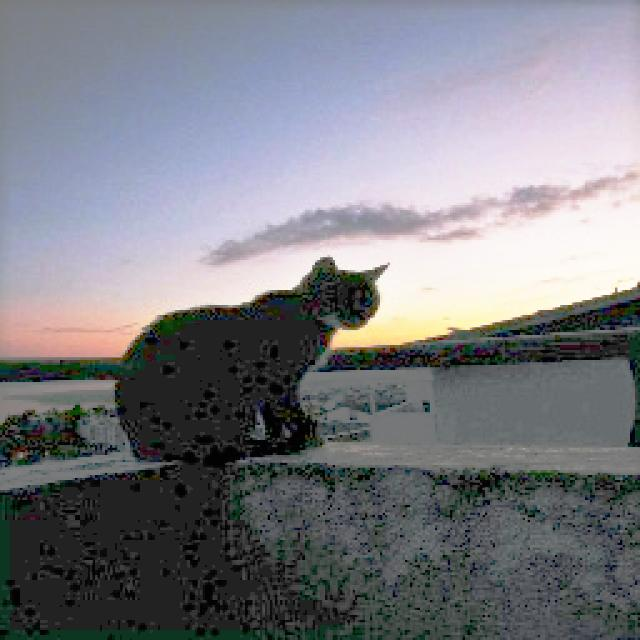cat: (105, 255, 388, 464)
